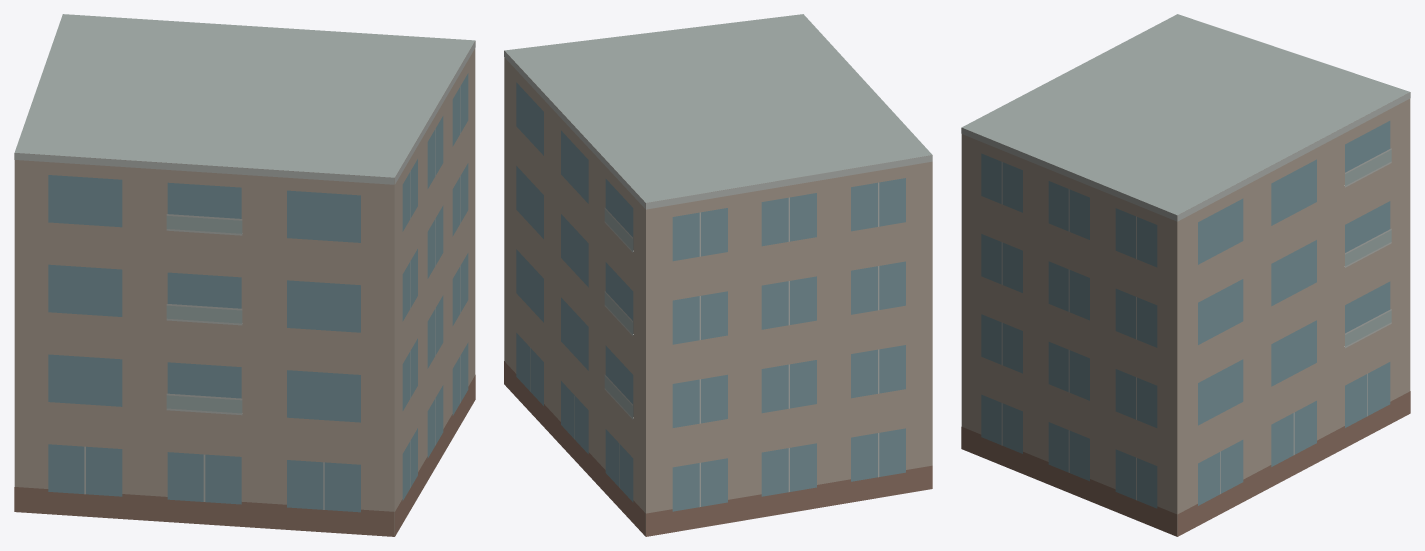
The model's file is survey-upis-32962174.glb.
The picture shows the model from 3 angles, left to right: view 1: azimuth 30°, elevation 25°; view 2: azimuth 150°, elevation 25°; view 3: azimuth 270°, elevation 25°; orthographic projection. The views are drawn at different scales.
Visible parts, largest first — view 1: survey-upis-32962174.tmp; view 2: survey-upis-32962174.tmp; view 3: survey-upis-32962174.tmp.
Boxes of the visible parts, x1,y1,x2,y2 form: survey-upis-32962174.tmp: (14, 14, 475, 536); survey-upis-32962174.tmp: (504, 14, 932, 536); survey-upis-32962174.tmp: (961, 14, 1410, 536).
Size of the model in its own units: 16.62 by 12.37 by 15.66.
